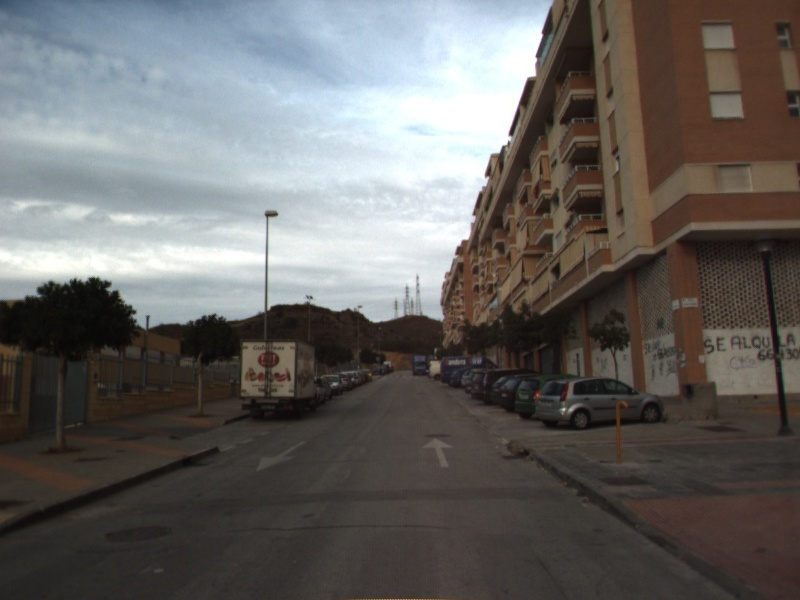STRAIGHT: (420, 436, 456, 469)
